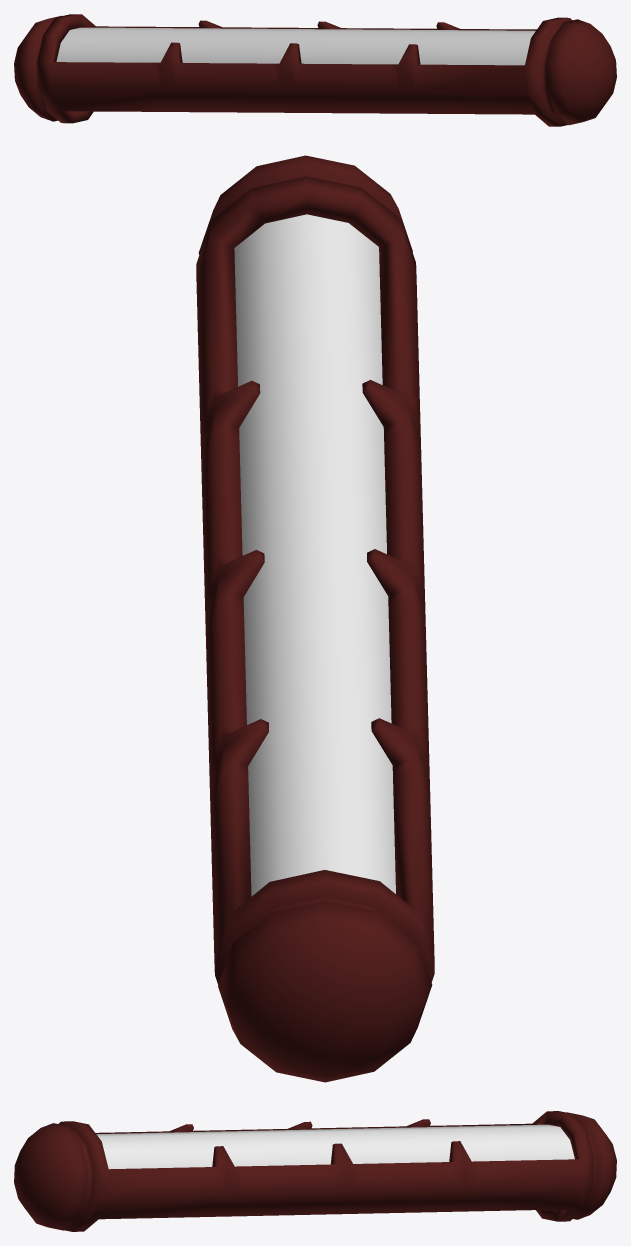
The model's file is FuelMeter.gltf.
3 renders of one model, top to bottom at view 1: azimuth 30°, elevation 25°; view 2: azimuth 150°, elevation 25°; view 3: azimuth 270°, elevation 25°, orthographic. The views are drawn at different scales.
Visible parts, largest first — view 1: FuelMeter; view 2: FuelMeter; view 3: FuelMeter.
Boxes of the visible parts, x1=… form: FuelMeter: x1=14, y1=14, x2=616, y2=126; FuelMeter: x1=196, y1=155, x2=434, y2=1082; FuelMeter: x1=14, y1=1111, x2=616, y2=1231.
Bounding box in the file's own units: 0.3861 × 0.2245 × 0.569.
